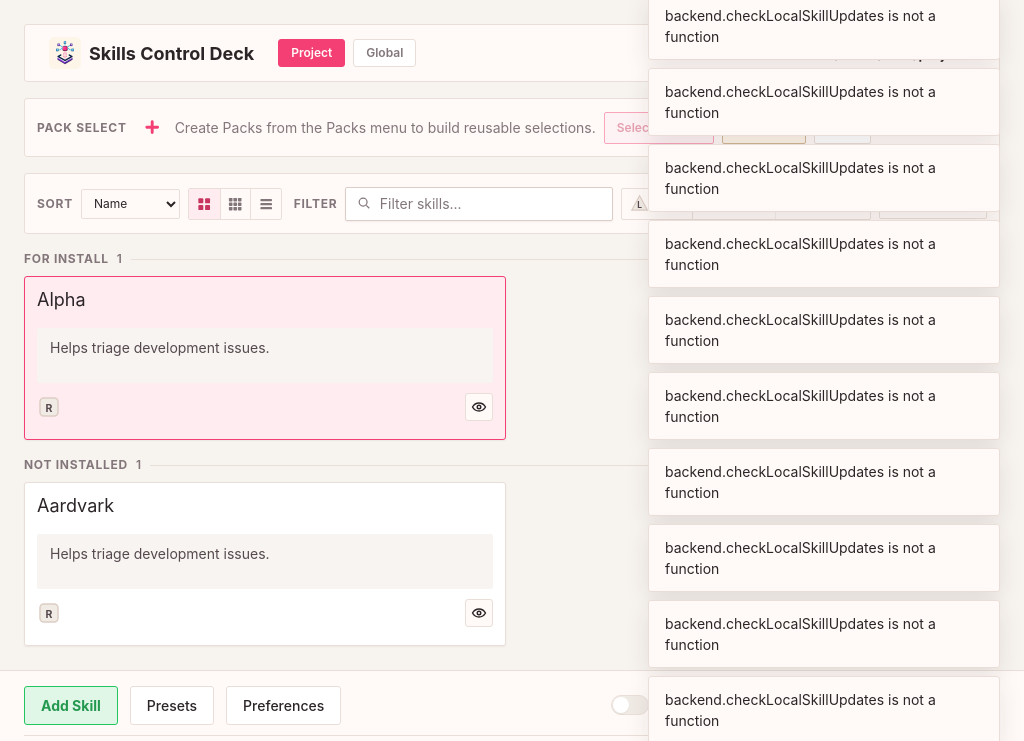
Scenario: App › moves a newly selected card into the leading selected block
Expected: the elements with class "skill-card__title" read "Alpha", "Aardvark", in this order, [37,289,86,312]; [37,495,114,518]
Click the 2nd button with class "skill-card__selection-surface".
click(265, 564)  # box [25,483,505,645]
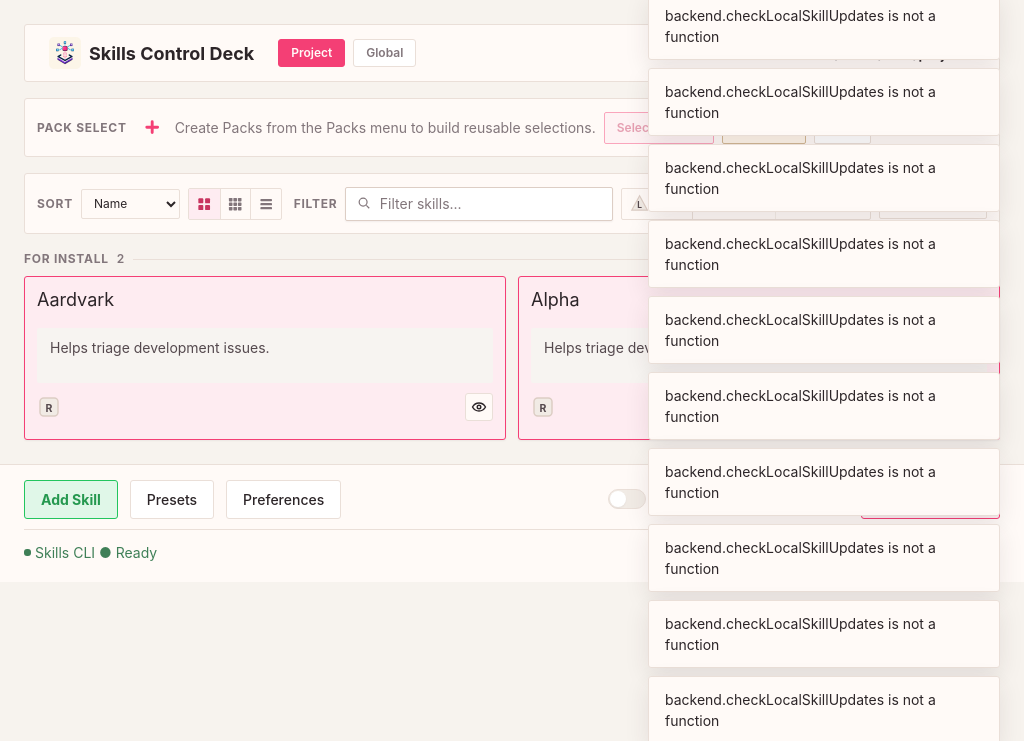
Expected: the elements with class "skill-card__title" read "Aardvark", "Alpha", in this order, [37,289,114,312]; [531,289,580,312]
